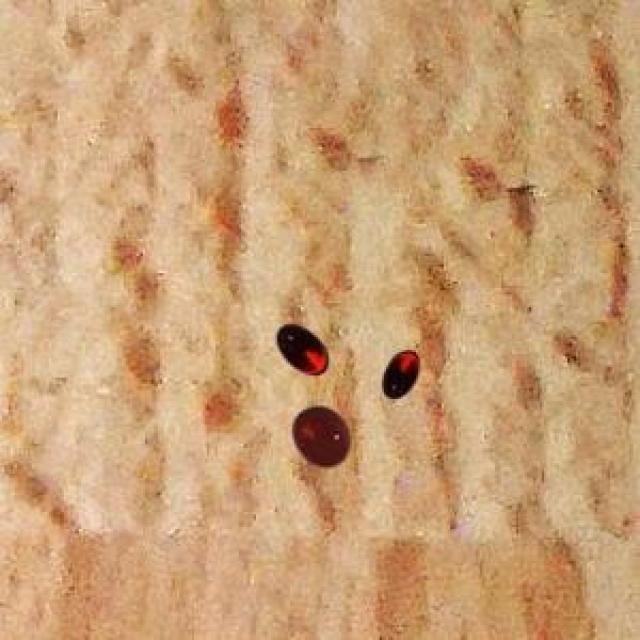Medicol: (286, 400, 361, 476), (270, 316, 336, 386), (376, 341, 429, 408)
